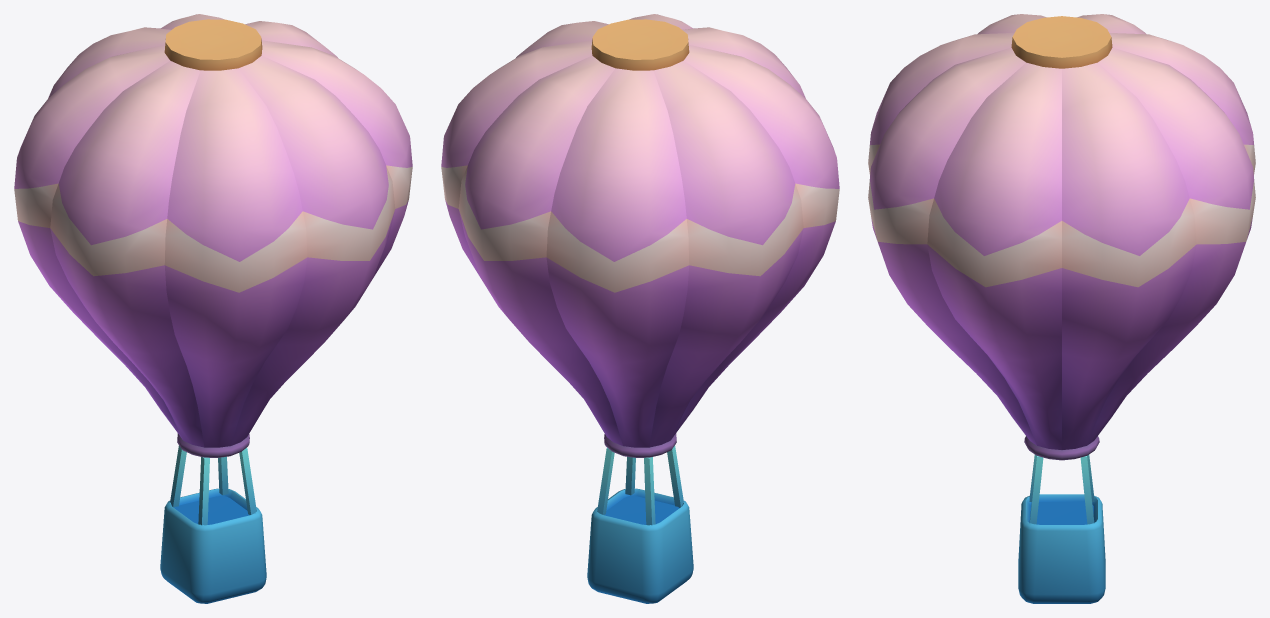
The model's file is Balloons-2.fbx.
3 views of the same model, side by side, from view 1: azimuth 30°, elevation 25°; view 2: azimuth 150°, elevation 25°; view 3: azimuth 270°, elevation 25° (orthographic).
Visible parts, largest first — view 1: Ballons-2; view 2: Ballons-2; view 3: Ballons-2.
Boxes of the visible parts, x1,y1,x2,y2 form: Ballons-2: [14, 14, 412, 603]; Ballons-2: [441, 14, 839, 603]; Ballons-2: [868, 14, 1255, 603].
Bounding box in the file's own units: 1032 × 1623 × 1030.
